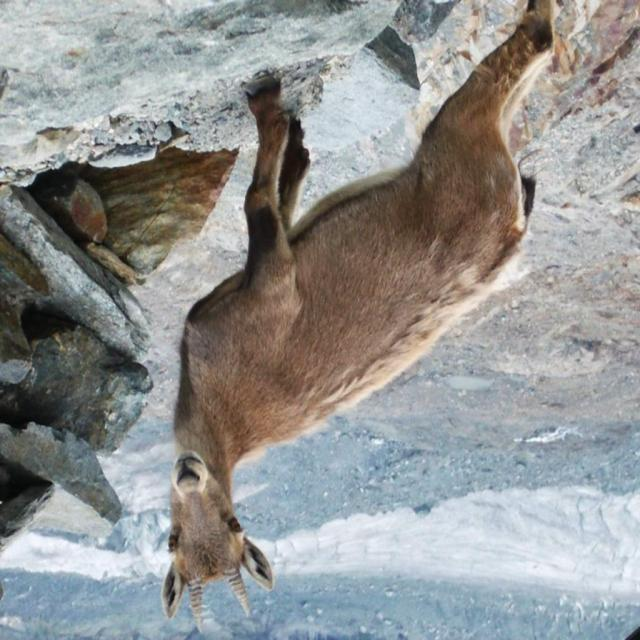Goat: (162, 1, 560, 633)
